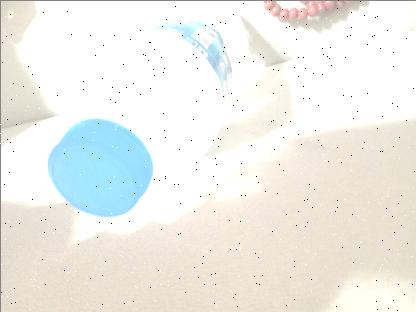Plastic Bottle: (46, 3, 254, 228)
